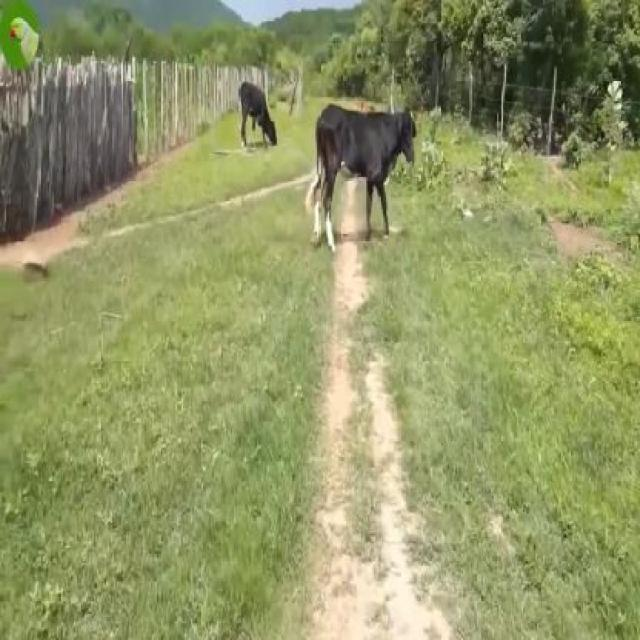Cow: (309, 104, 417, 253)
